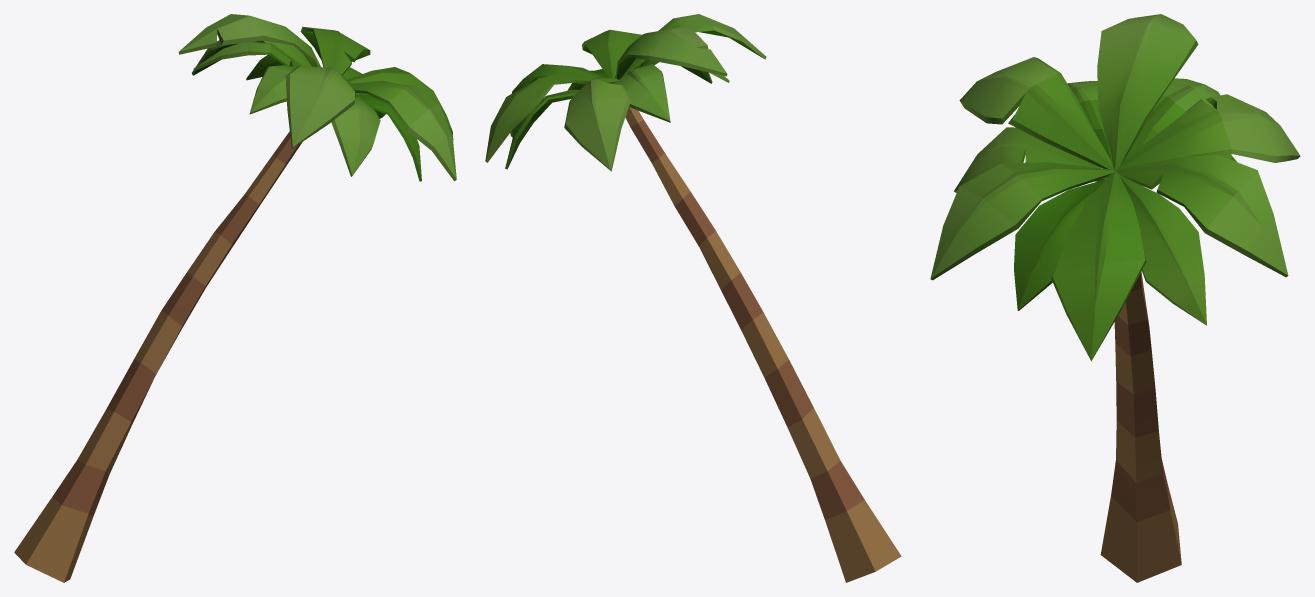
Rendered from Anim_PalmTree_Colour.fbx.
The picture shows the model from 3 angles, left to right: view 1: azimuth 30°, elevation 25°; view 2: azimuth 150°, elevation 25°; view 3: azimuth 270°, elevation 25°; orthographic projection. The views are drawn at different scales.
Visible parts, largest first — view 1: Anim_PalmTree_Colour; view 2: Anim_PalmTree_Colour; view 3: Anim_PalmTree_Colour.
Boxes of the visible parts, x1,y1,x2,y2 form: Anim_PalmTree_Colour: [14, 14, 456, 582]; Anim_PalmTree_Colour: [485, 14, 901, 582]; Anim_PalmTree_Colour: [930, 14, 1300, 582].
Size of the model in its own units: 6.62 by 7.88 by 3.91.
